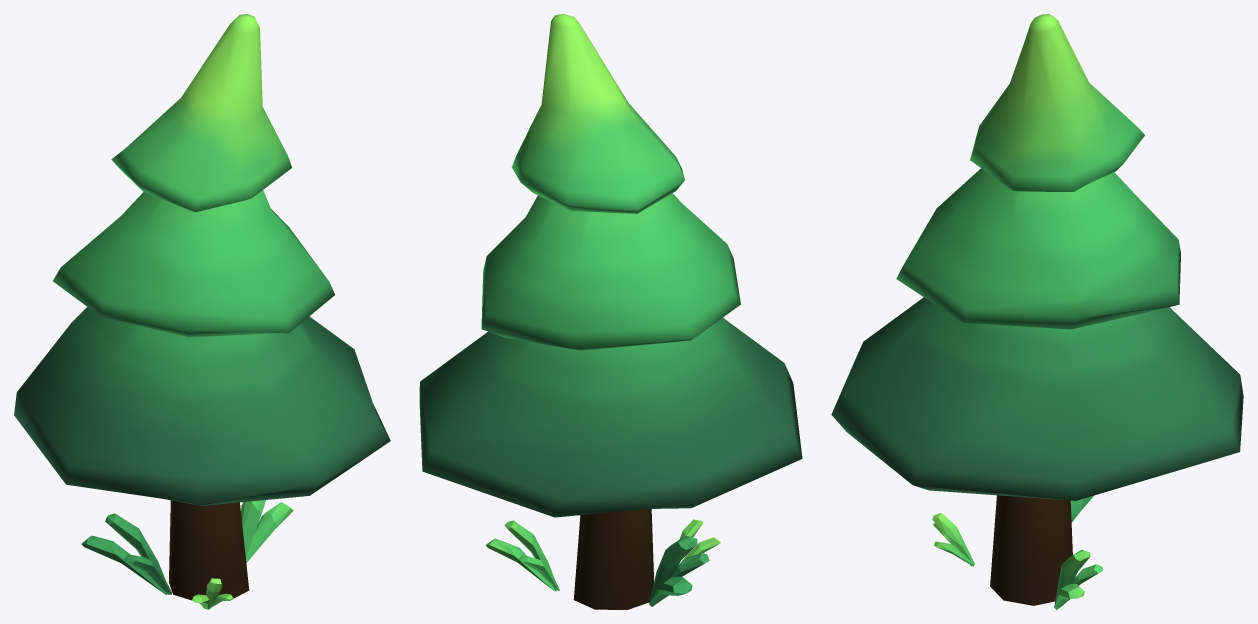
Rendered from tree1.obj.
3 renders of one model, left to right at view 1: azimuth 30°, elevation 25°; view 2: azimuth 150°, elevation 25°; view 3: azimuth 270°, elevation 25°, orthographic. The views are drawn at different scales.
Visible parts, largest first — view 1: Circle.011; view 2: Circle.011; view 3: Circle.011.
Part boxes in pixels (left/top/right/bottom): Circle.011: left=14, top=14, right=390, bottom=609; Circle.011: left=419, top=14, right=802, bottom=609; Circle.011: left=831, top=14, right=1243, bottom=609.
Size of the model in its own units: 1.65 by 2.66 by 1.67.
